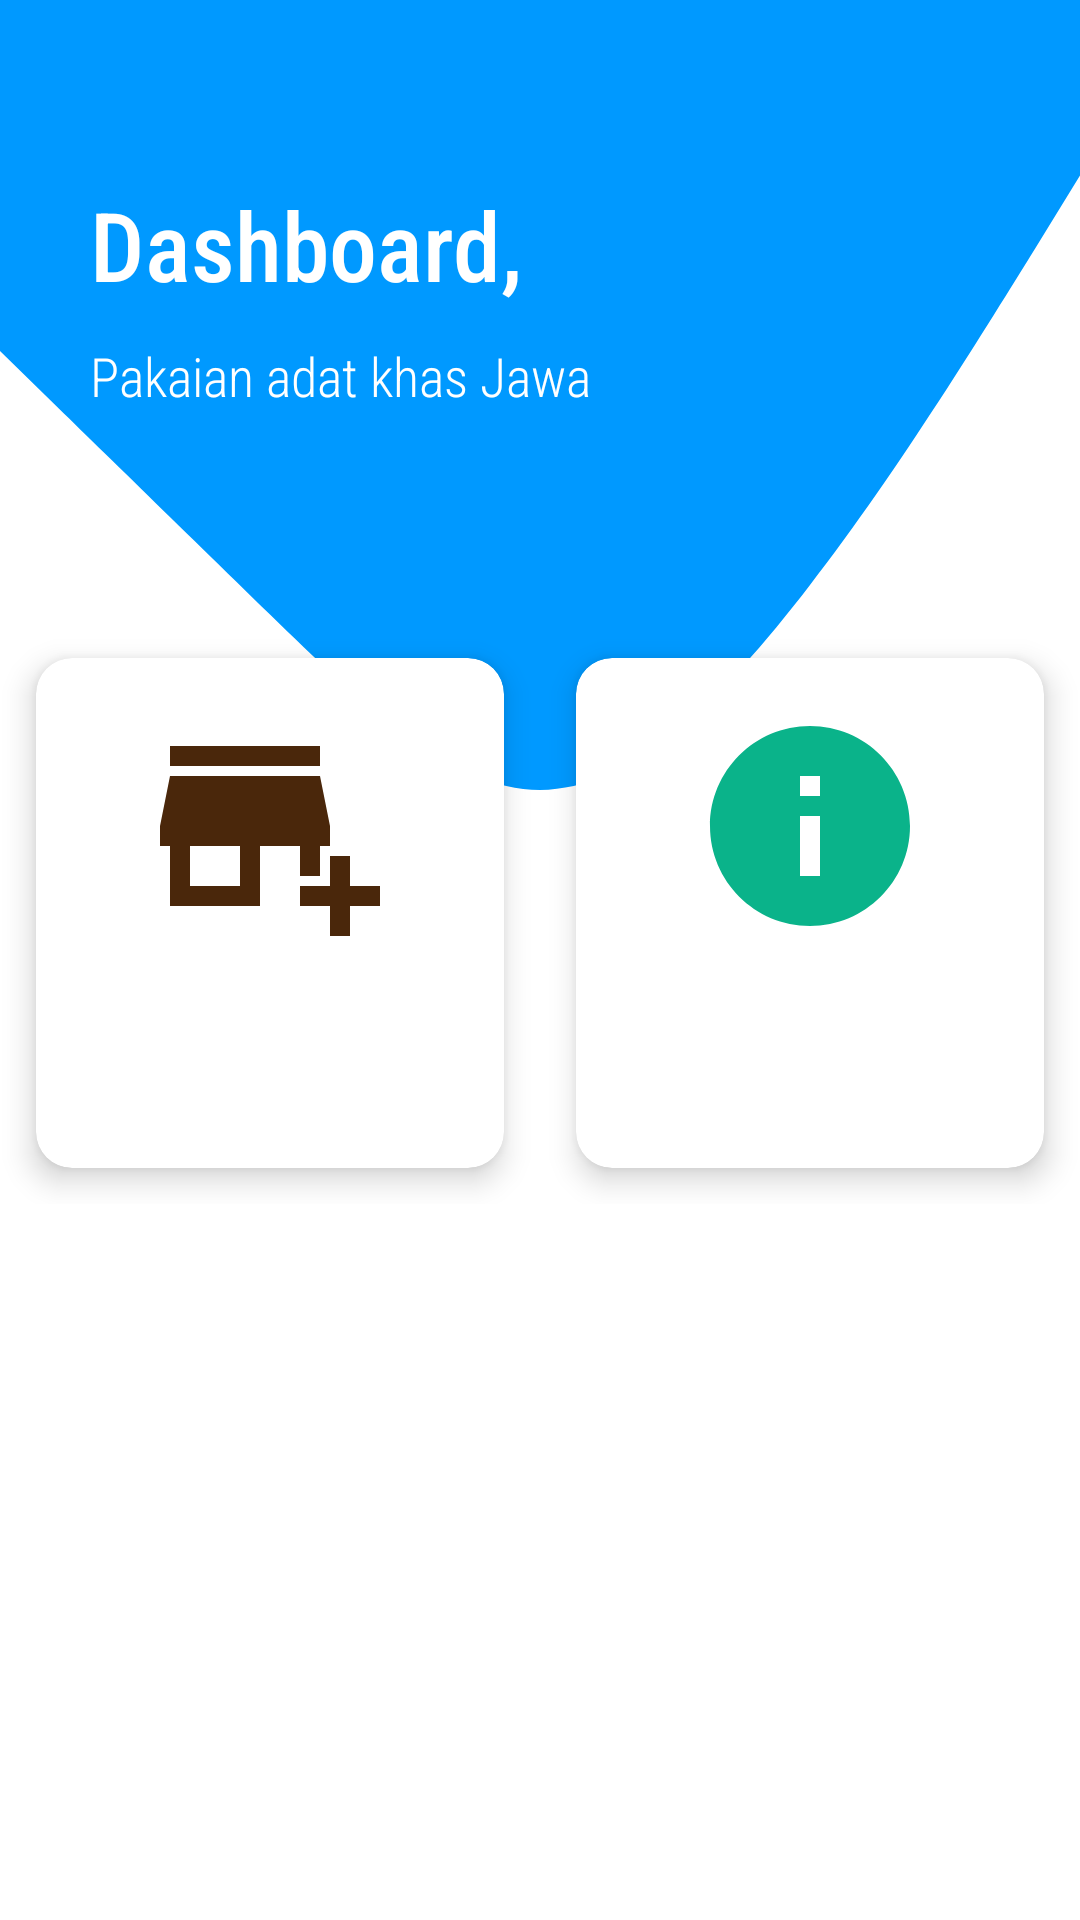

Named icons in this screenshot (1080px x 1920px) and their bounding boxes, [left=x1, top=y1, right=x2, bottom=y2]:
add business: [left=160, top=746, right=380, bottom=936]
info: [left=709, top=726, right=910, bottom=926]
